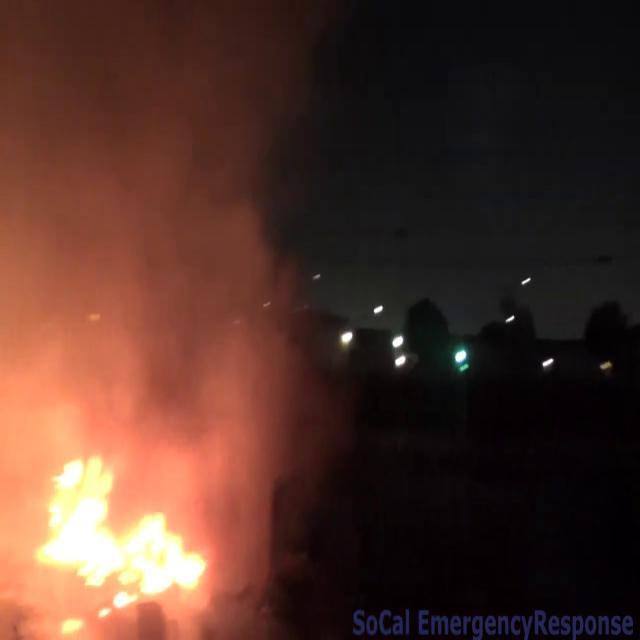Fire: (23, 446, 215, 612)
Smoke: (0, 0, 323, 503)
